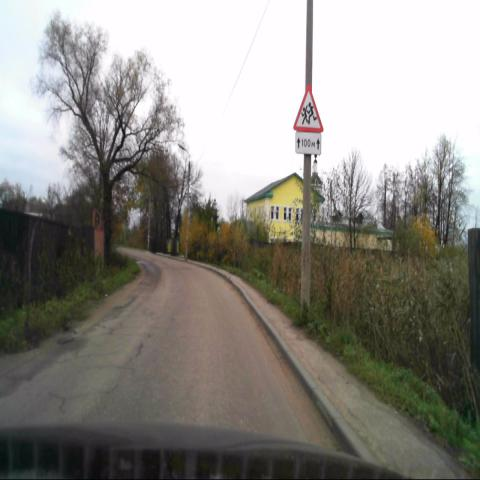1_23: (294, 84, 323, 132)
8_2_1: (295, 133, 321, 156)
